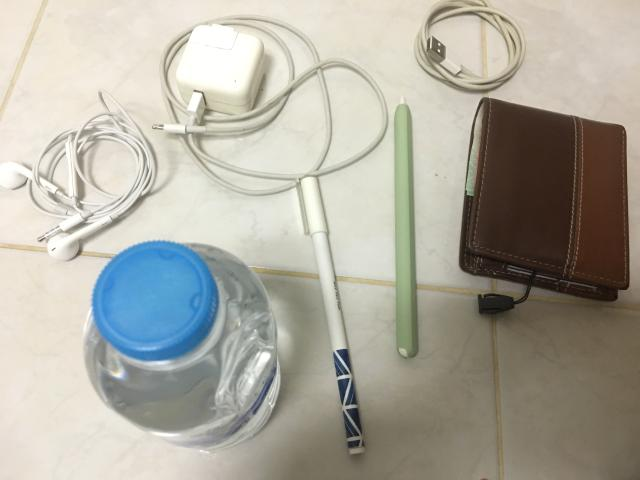Pen: (300, 176, 362, 452)
Wallet: (460, 99, 630, 300)
bottle: (84, 241, 280, 450)
wire: (152, 15, 389, 195), (0, 90, 156, 260), (414, 0, 526, 91)
